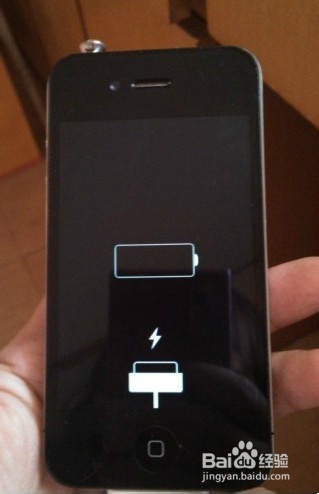phone: (51, 51, 273, 468)
